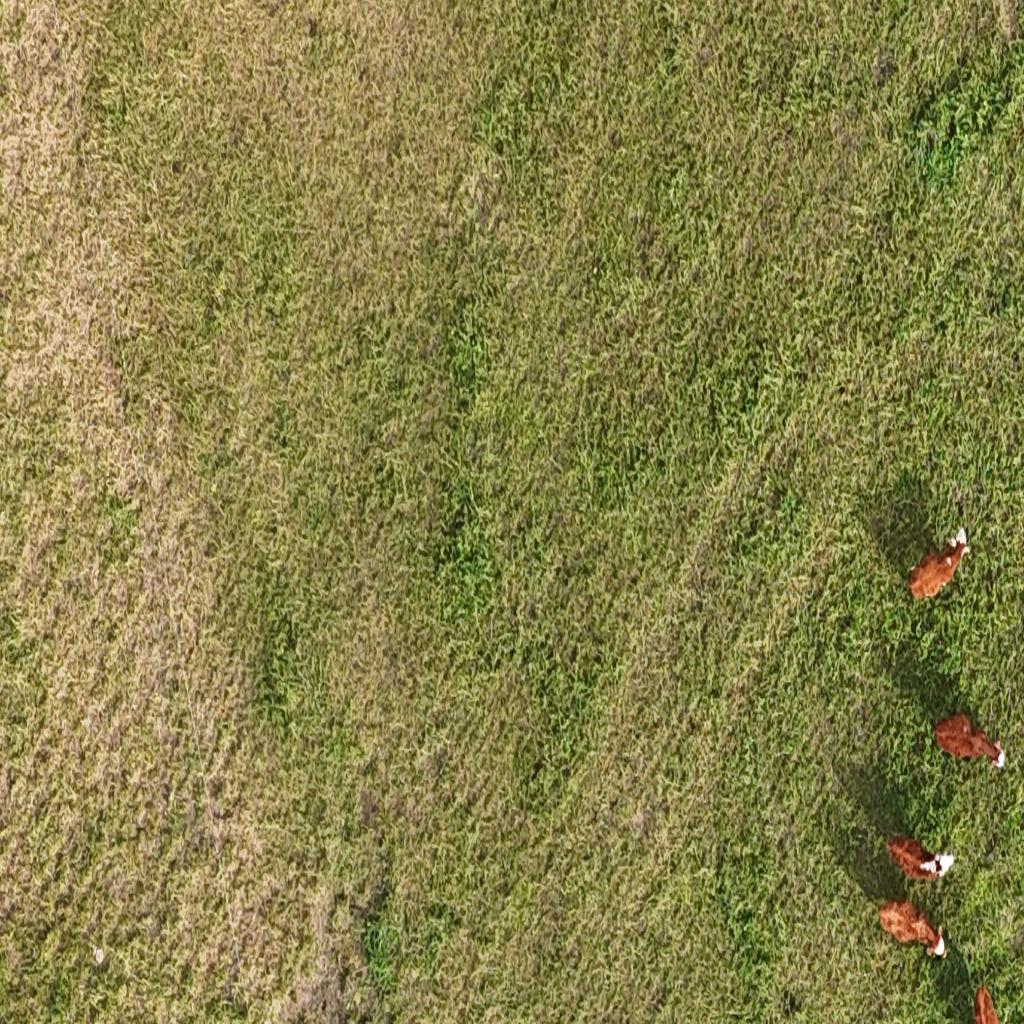cow: (905, 525, 972, 607), (877, 899, 946, 959), (935, 713, 1005, 770), (885, 834, 952, 882), (972, 984, 1000, 1023)
